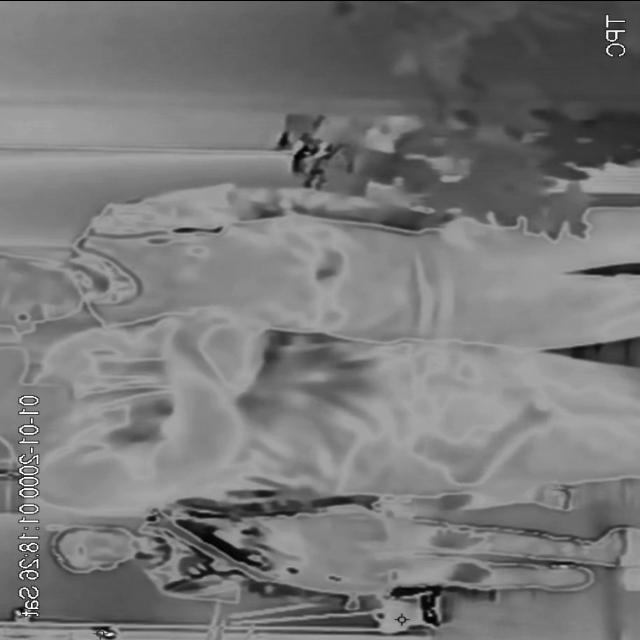Weapon: (393, 387, 558, 492)
